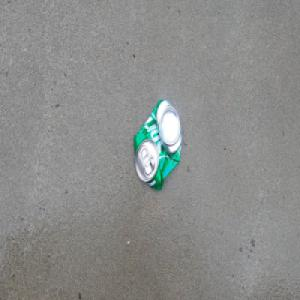SodaCan: (132, 97, 183, 192)
